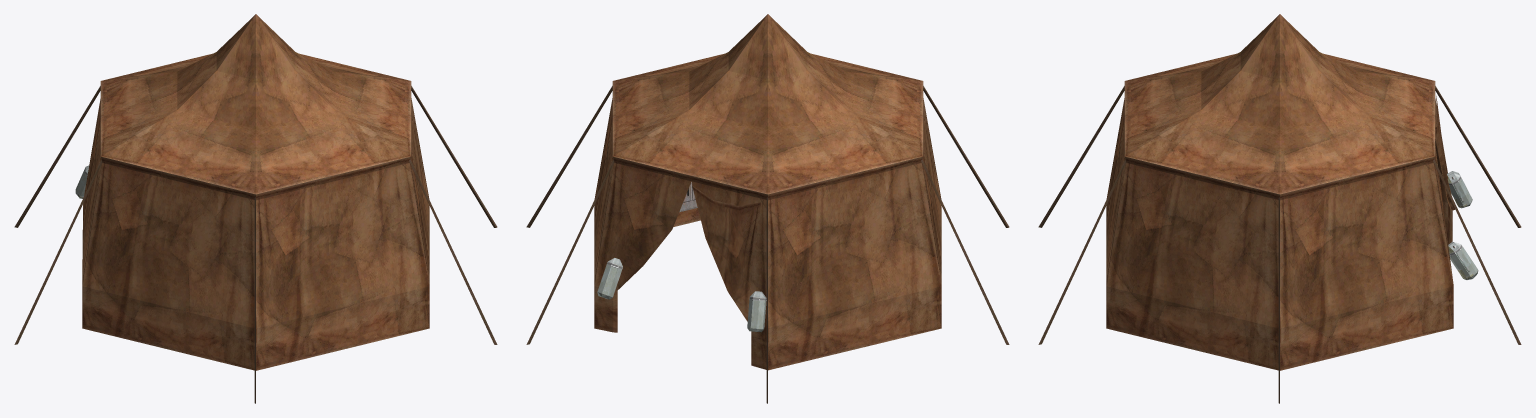
File: poi_tato_tent_s01_l1.fbx
3 renders of one model, left to right at view 1: azimuth 30°, elevation 25°; view 2: azimuth 150°, elevation 25°; view 3: azimuth 270°, elevation 25°, orthographic.
Visible parts, largest first — view 1: mesh_node; view 2: mesh_node; view 3: mesh_node.
Part boxes in pixels (<box>): mesh_node: <box>14,14,497,403</box>; mesh_node: <box>526,14,1009,403</box>; mesh_node: <box>1038,14,1521,403</box>.
Size of the model in its own units: 11.99 by 6.45 by 10.38.
